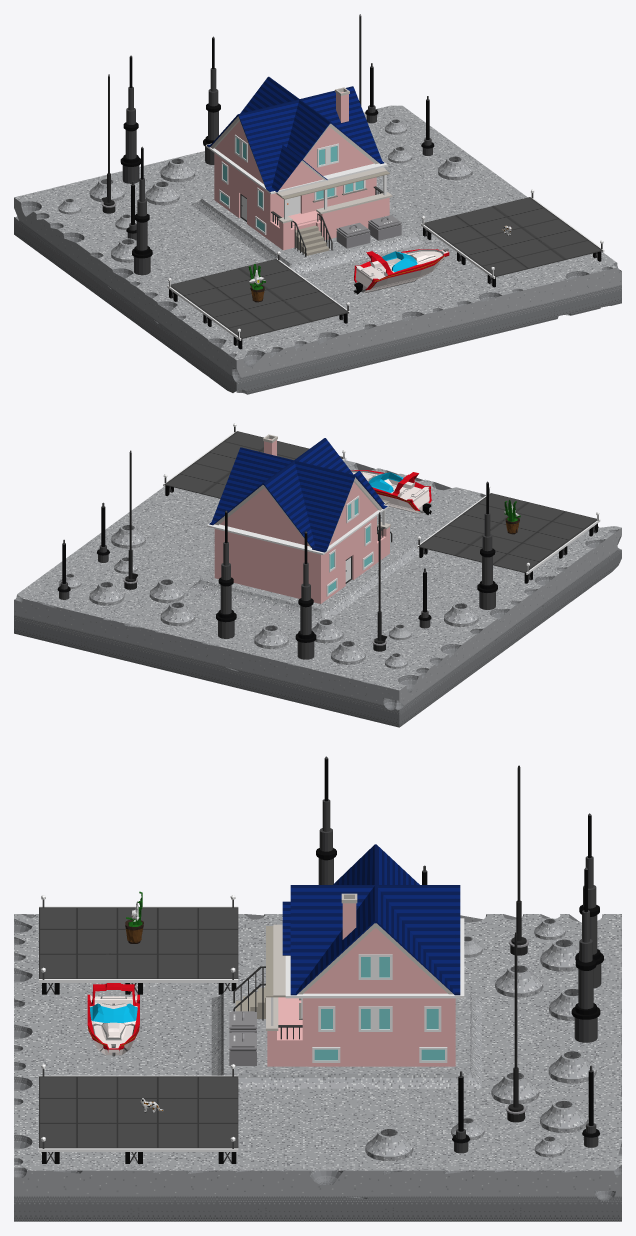
3 renders of one model, top to bottom at view 1: azimuth 30°, elevation 25°; view 2: azimuth 150°, elevation 25°; view 3: azimuth 270°, elevation 25°, orthographic. The views are drawn at different scales.
Visible parts, largest first — view 1: Cube.027, Cube.313, Cube.026, Cube.025, Cube.028, VEHICLES_BOAT, Cylinder.020, Cylinder.021, Cylinder.017, Cube.029, Cube.030, Cylinder.027 (+3 smaller); view 2: Cube.027, Cube.313, Cube.025, Cube.028, Cube.026, VEHICLES_BOAT, Cylinder.020, Cylinder.021, Cylinder.017, Cylinder.031, Cylinder.028, Cylinder.029 (+7 smaller); view 3: Cube.027, Cube.313, Cube.026, Cube.025, Cube.028, VEHICLES_BOAT, Cylinder.017, Cylinder.020, Cylinder.021, Cylinder.033, Cylinder.031, Cylinder.029 (+9 smaller).
Part boxes in pixels (x1,y1,x2,y2): Cube.027: [14, 105, 621, 394]; Cube.313: [205, 76, 392, 256]; Cube.026: [421, 189, 604, 287]; Cube.025: [167, 251, 350, 349]; Cube.028: [191, 195, 424, 274]; VEHICLES_BOAT: [353, 248, 449, 294]; Cylinder.020: [120, 55, 140, 183]; Cylinder.021: [132, 146, 152, 275]; Cylinder.017: [203, 36, 220, 164]; Cube.029: [336, 222, 370, 248]; Cube.030: [368, 215, 401, 240]; Cylinder.027: [160, 158, 195, 182]; Cube.027: [14, 460, 621, 727]; Cube.313: [206, 434, 392, 603]; Cube.025: [417, 485, 600, 583]; Cube.028: [190, 538, 419, 620]; Cube.026: [163, 423, 346, 498]; VEHICLES_BOAT: [351, 470, 431, 515]; Cylinder.020: [295, 531, 316, 659]; Cylinder.021: [477, 481, 497, 609]; Cylinder.017: [216, 510, 236, 638]; Cylinder.031: [89, 581, 124, 605]; Cylinder.028: [331, 640, 365, 664]; Cylinder.029: [160, 601, 195, 626]; Cube.027: [14, 914, 621, 1221]; Cube.313: [233, 844, 464, 1066]; Cube.026: [39, 1064, 238, 1163]; Cube.025: [39, 895, 238, 994]; Cube.028: [211, 991, 481, 1088]; VEHICLES_BOAT: [87, 983, 139, 1056]; Cylinder.017: [571, 867, 600, 1042]; Cylinder.020: [575, 813, 603, 988]; Cylinder.021: [316, 756, 336, 884]; Cylinder.033: [365, 1128, 413, 1160]; Cylinder.031: [540, 1100, 587, 1132]; Cylinder.029: [548, 1050, 596, 1083].
Size of the model in its own units: 4000 by 1799 by 4000.
Materials: 40 (4 with a texture image).
